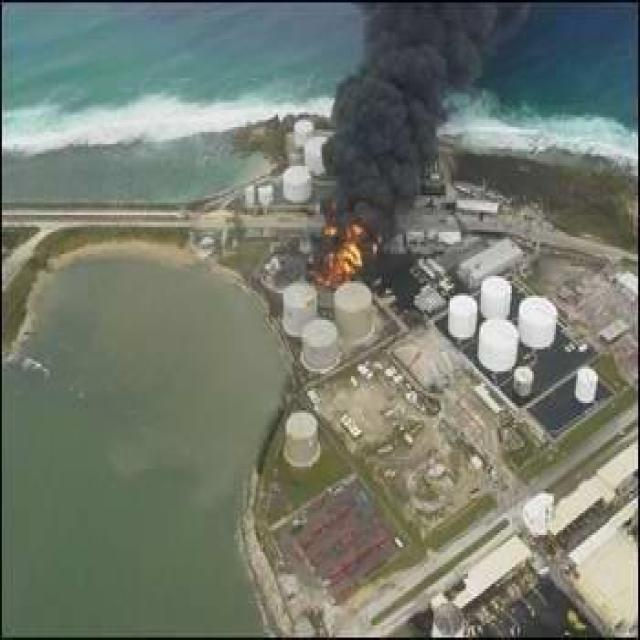Fire: (318, 222, 366, 288)
Smoke: (318, 2, 529, 256)
